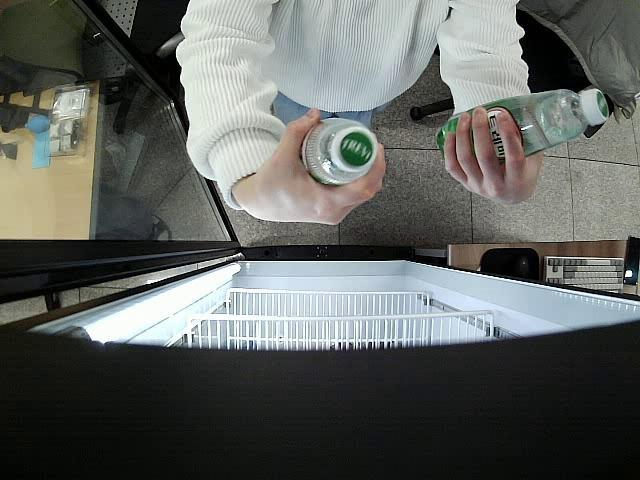18_trevi: (436, 88, 608, 172), (302, 117, 377, 188)
